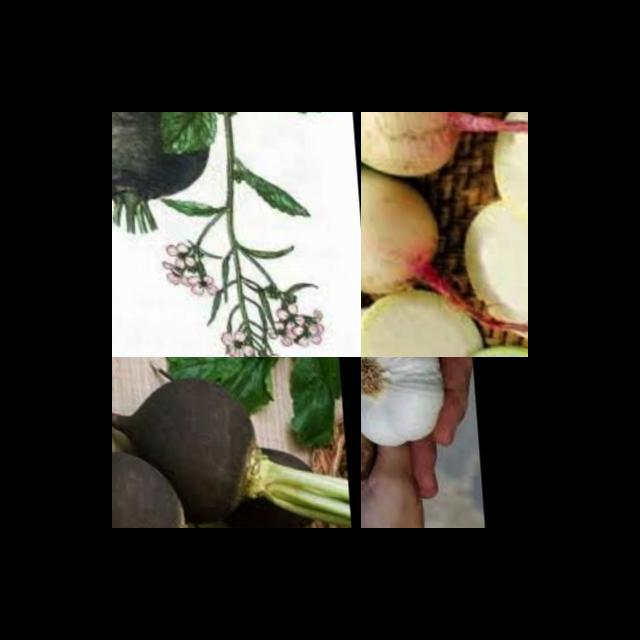garlic: (361, 357, 446, 451)
